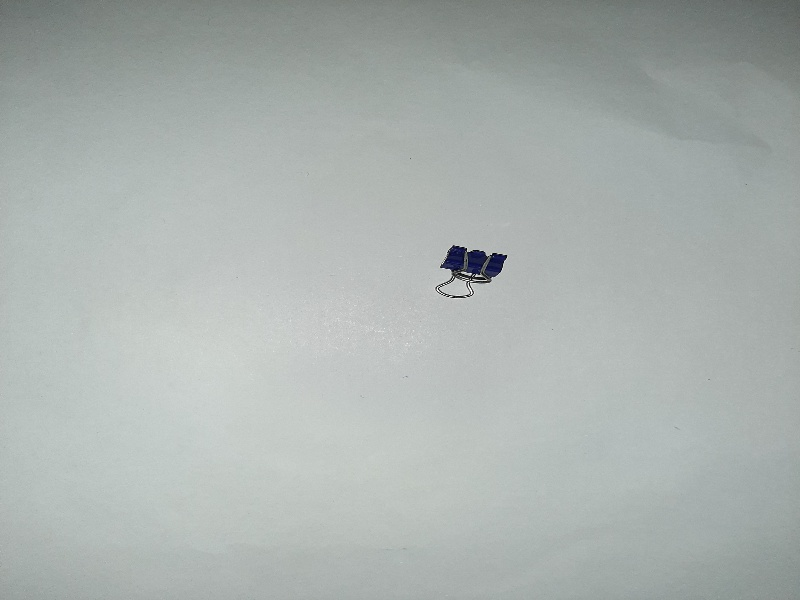Small Paperclip: (432, 237, 512, 303)
